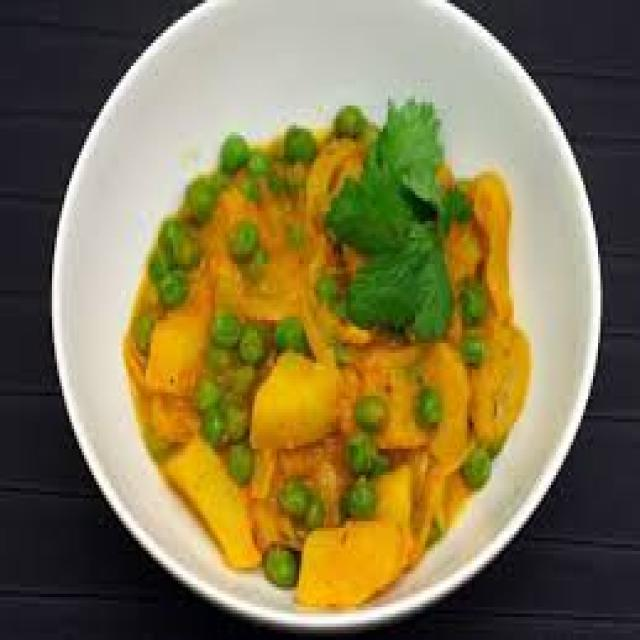aloo_matar: (111, 95, 545, 560)
